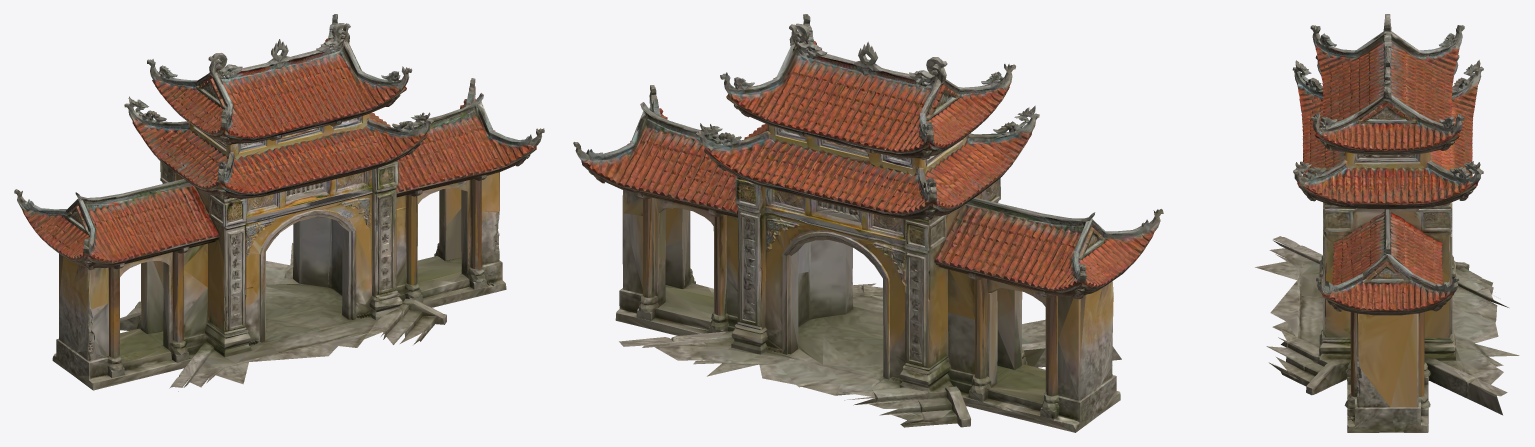
Rendered from gate.glb.
3 views of the same model, side by side, from view 1: azimuth 30°, elevation 25°; view 2: azimuth 150°, elevation 25°; view 3: azimuth 270°, elevation 25° (orthographic). The views are drawn at different scales.
Parts seen in each view (by area): view 1: tamquan2; view 2: tamquan2; view 3: tamquan2.
Boxes of the visible parts, bbox=[...] form: tamquan2: bbox=[14, 14, 544, 391]; tamquan2: bbox=[573, 14, 1163, 432]; tamquan2: bbox=[1255, 14, 1519, 432].
Bounding box in the file's own units: 0.9791 × 0.5823 × 0.6034.
Materials: 1 (1 with a texture image).
